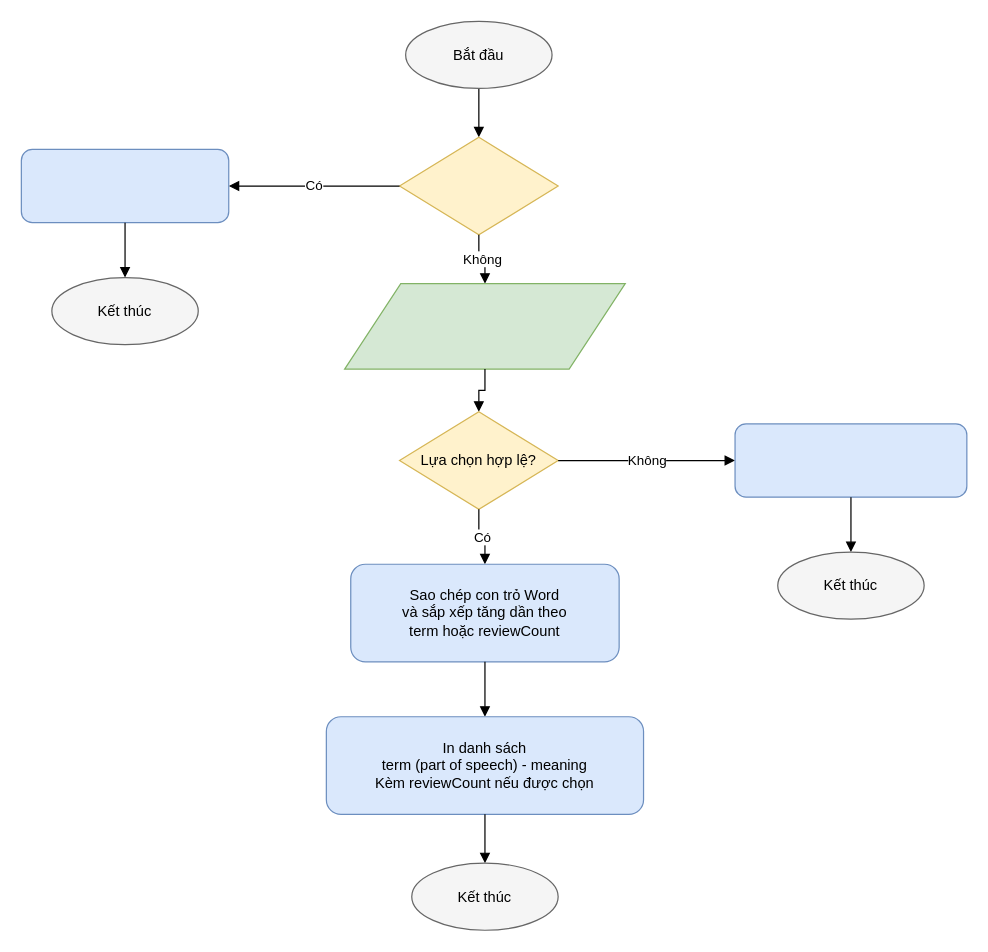
Image size: 988x952. Some labels were removed from this diagram. The shapes that lost their labels are listed below. From the top down, each one's centre as x and y in pixels, then its label:
point (124, 185): Thông báo: Deck rỗng
point (478, 185): Deck rỗng?
point (484, 325): Nhập lựa chọn 1: alphabet | 2: reviewCount
point (850, 460): Thông báo: lựa chọn không hợp lệ
